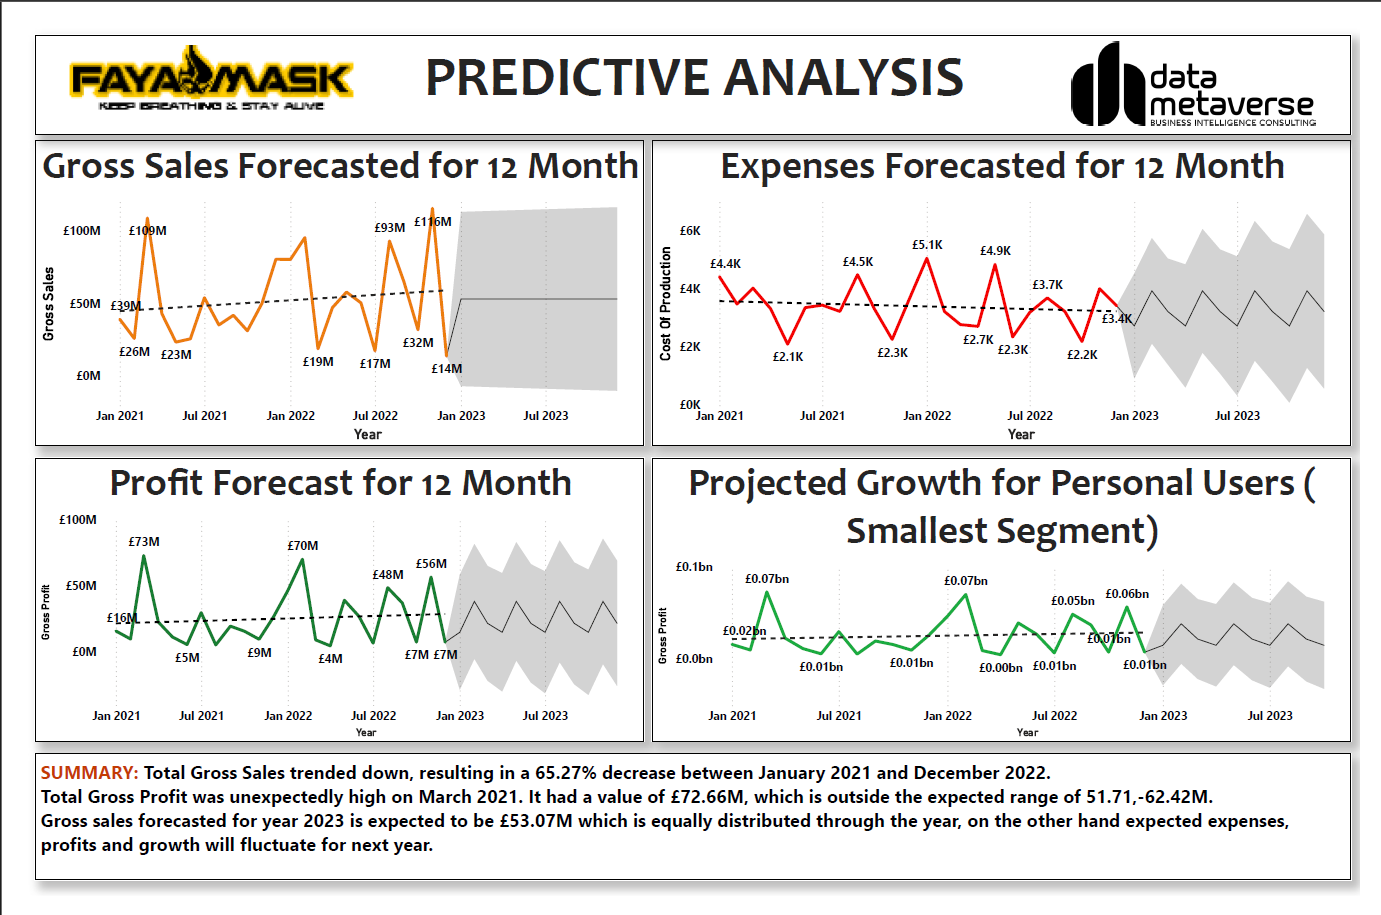

The page's visual inventory and layout, read from the dashboard file:
{"tool":"powerbi","page":{"name":"Forecast Analysis","canvas":[1380,900],"ordinal":6},"visuals":[{"type":"lineChart","title":"Gross Sales Forecasted for 12 Month","fields":{"Category":["Faya Mask data.Date.Variation.Date Hierarchy.Year","Faya Mask data.Date.Variation.Date Hierarchy.Month"],"Y":["Sum(Faya Mask data.Gross Sales)"]},"box":[9.9,119.2,629.8,315.9],"z":0},{"type":"lineChart","title":"Profit Forecast for 12 Month ","fields":{"Y":["Sum(Faya Mask data.Profit)"],"Category":["Faya Mask data.Date.Variation.Date Hierarchy.Year","Faya Mask data.Date.Variation.Date Hierarchy.Month"]},"box":[9.9,447,629.8,294],"z":1000},{"type":"lineChart","title":"Expenses Forecasted for 12 Month ","fields":{"Y":["Sum(Faya Mask data.Cost of production)"],"Category":["Faya Mask data.Date.Variation.Date Hierarchy.Year","Faya Mask data.Date.Variation.Date Hierarchy.Month"]},"box":[647.7,119.2,723.2,315.9],"z":2000},{"type":"lineChart","title":"Projected Growth for Personal Users ( Smallest Segment)","fields":{"Category":["Faya Mask data.Date.Variation.Date Hierarchy.Year","Faya Mask data.Date.Variation.Date Hierarchy.Quarter","Faya Mask data.Date.Variation.Date Hierarchy.Month"],"Y":["Sum(Faya Mask data.Profit)"]},"box":[647.7,447,723.2,294],"z":3000},{"type":"textbox","title":"SALES ANALYSIS","box":[9.9,9.9,1360.9,103.3],"z":4000},{"type":"textbox","box":[9.9,753,1360.9,131.1],"z":5000},{"type":"image","box":[9.9,15.9,355.6,91.4],"z":6000},{"type":"image","box":[1045,11.9,325.8,97.4],"z":7000}]}

Visuals, with their boxes in screenshot pixels (x1, y1, x2, y2), scaled from the page's 1380x900 canvas onto the 1381x915 screenshot:
"Gross Sales Forecasted for 12 Month" lineChart: x1=10, y1=121, x2=640, y2=442
"Profit Forecast for 12 Month " lineChart: x1=10, y1=454, x2=640, y2=753
"Expenses Forecasted for 12 Month " lineChart: x1=648, y1=121, x2=1372, y2=442
"Projected Growth for Personal Users ( Smallest Segment)" lineChart: x1=648, y1=454, x2=1372, y2=753
"SALES ANALYSIS" textbox: x1=10, y1=10, x2=1372, y2=115
textbox: x1=10, y1=766, x2=1372, y2=899
image: x1=10, y1=16, x2=366, y2=109
image: x1=1046, y1=12, x2=1372, y2=111
